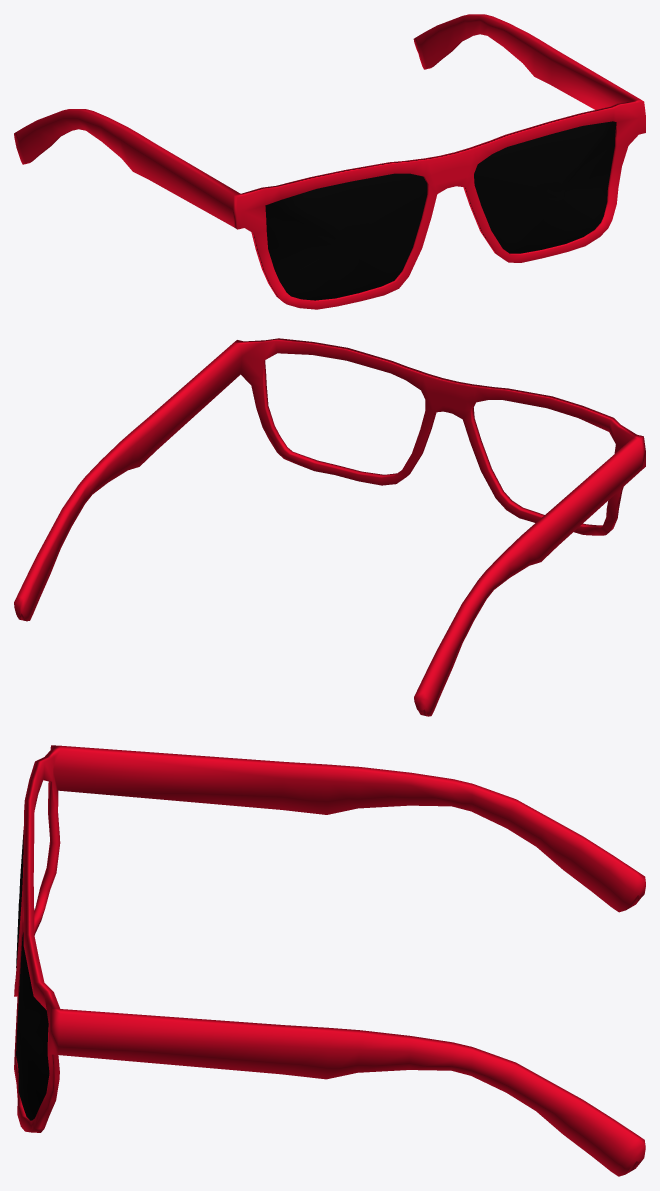
File: glasses.gltf
3 renders of one model, top to bottom at view 1: azimuth 30°, elevation 25°; view 2: azimuth 150°, elevation 25°; view 3: azimuth 270°, elevation 25°, orthographic. The views are drawn at different scales.
Visible parts, largest first — view 1: Cube; view 2: Cube; view 3: Cube.
Boxes of the visible parts, left/top/right/bottom form: Cube: left=14, top=14, right=645, bottom=309; Cube: left=14, top=338, right=645, bottom=716; Cube: left=14, top=745, right=645, bottom=1176.
Bounding box in the file's own units: 762 × 238 × 765.
